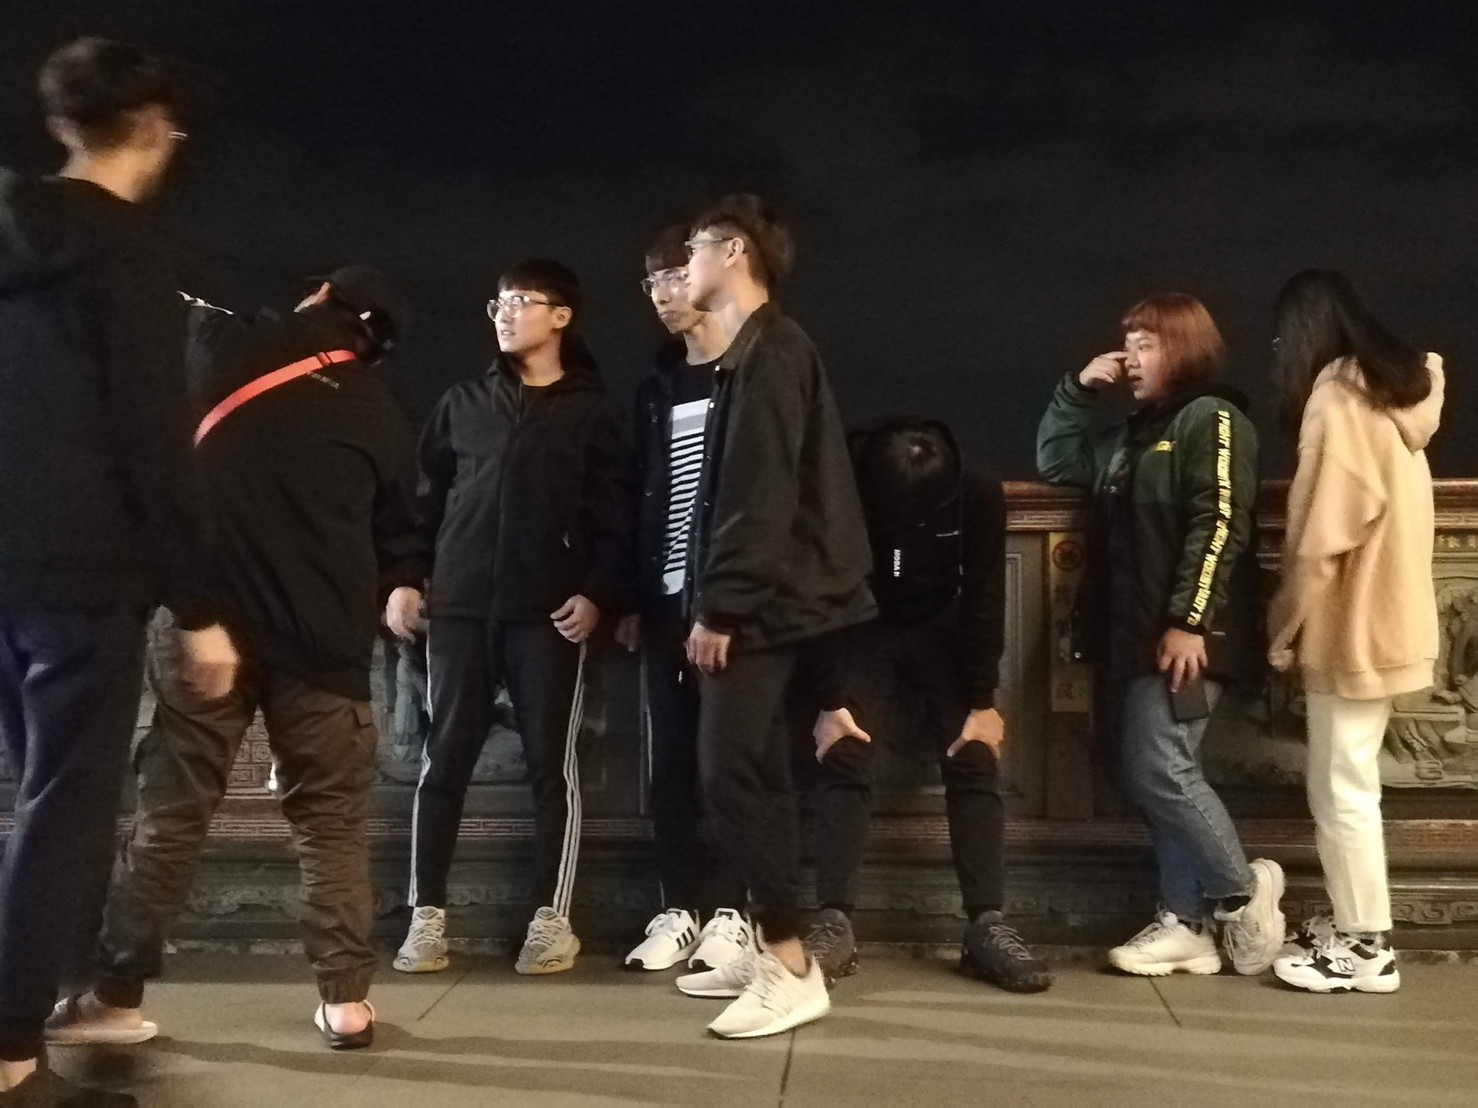people: (196, 248, 427, 1069), (15, 25, 188, 1075), (1069, 275, 1294, 1009), (677, 186, 863, 1055), (1271, 257, 1461, 1009), (438, 261, 617, 975), (850, 405, 1048, 1011), (613, 242, 731, 963)
